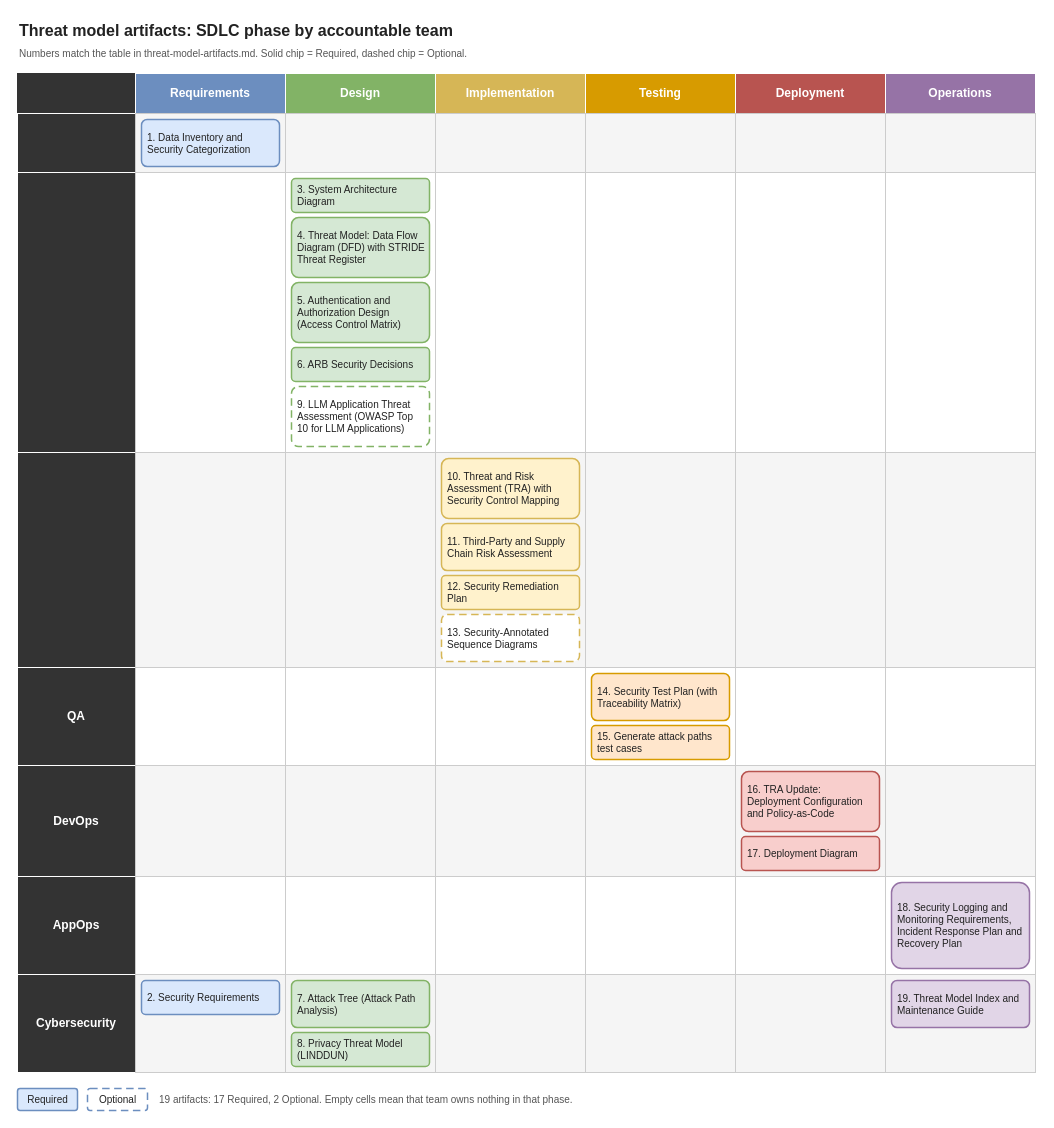
Image size: 1054x1128. Some labels were removed from this diagram. Here are the shapes that lost their labels. From the top down, the centre of each, then its label:
At (76,93): "Team \ Phase".
At (76,142): "Product".
At (76,312): "Architecture".
At (76,560): "Development".
